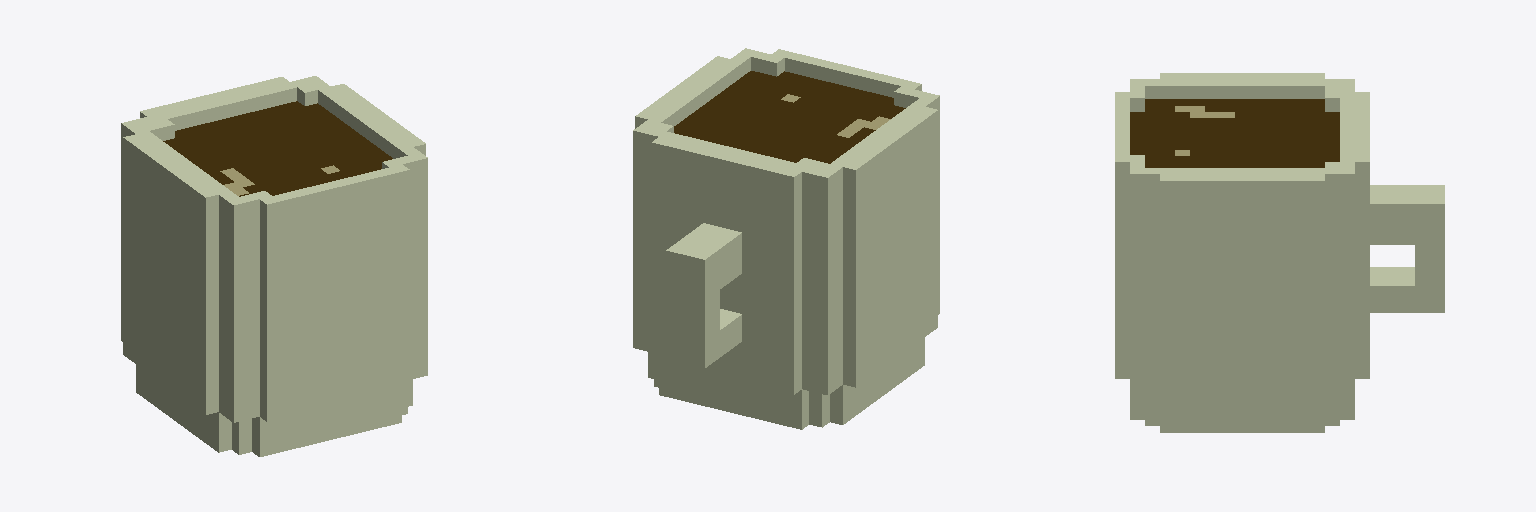
The picture shows the model from 3 angles: view 1: azimuth 30°, elevation 25°; view 2: azimuth 150°, elevation 25°; view 3: azimuth 270°, elevation 25°; orthographic projection.
Parts seen in each view (by area): view 1: object 1; view 2: object 1; view 3: object 1.
Part boxes in pixels (bbox=[...]): object 1: bbox=[121, 76, 427, 456]; object 1: bbox=[633, 48, 939, 429]; object 1: bbox=[1115, 73, 1444, 432].
Size of the model in its own units: 1.7 by 1.9 by 2.2.
Materials: 1 (1 with a texture image).